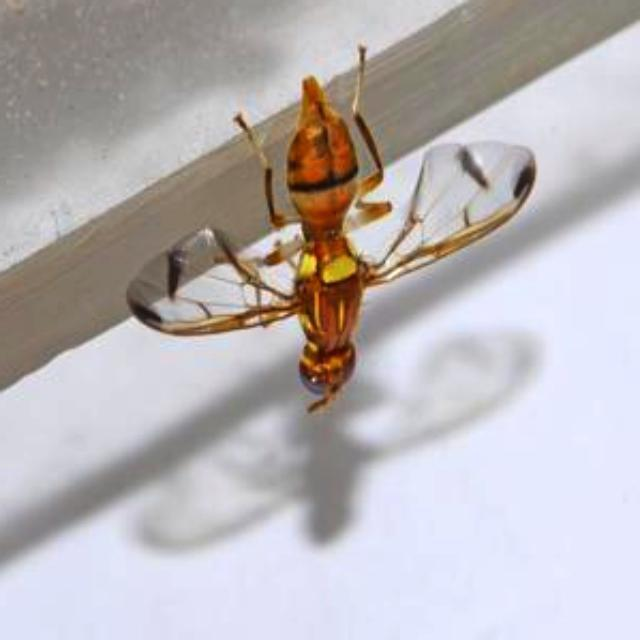melon fly: (117, 36, 565, 472)
